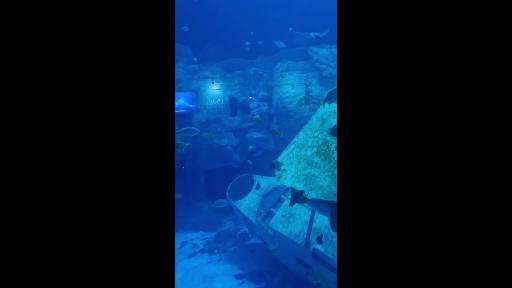Fish: (290, 28, 329, 45), (306, 268, 331, 287), (321, 87, 337, 109), (289, 189, 309, 206), (175, 98, 197, 110), (330, 202, 337, 233), (175, 127, 199, 136), (294, 96, 310, 107), (175, 142, 191, 150), (271, 160, 283, 170), (213, 200, 229, 207), (273, 42, 286, 48), (271, 129, 282, 136), (271, 243, 278, 253), (254, 115, 262, 123), (316, 234, 322, 244), (203, 133, 212, 139), (180, 26, 189, 31), (263, 92, 269, 97), (247, 160, 252, 165), (249, 146, 255, 150), (175, 194, 181, 198), (245, 42, 250, 46), (251, 129, 257, 132), (257, 41, 263, 44), (250, 32, 254, 36), (246, 47, 249, 51), (194, 58, 197, 62), (335, 146, 337, 151)
